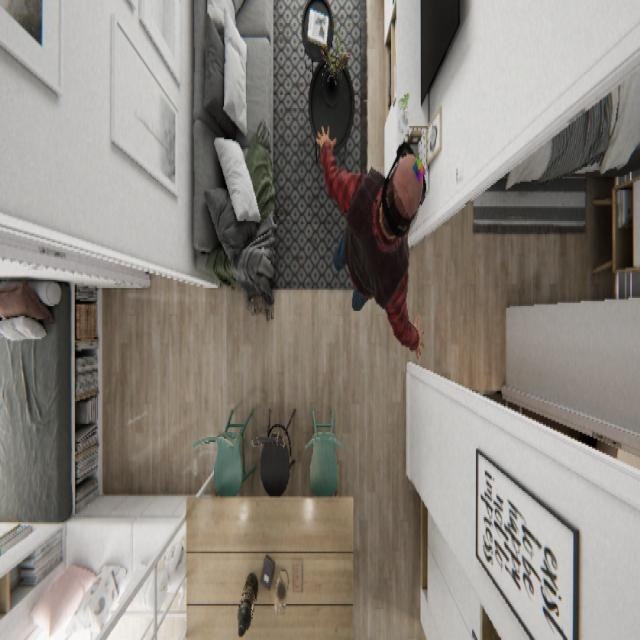Colored-Marker: (411, 154, 425, 183)
Human: (314, 121, 428, 359)
